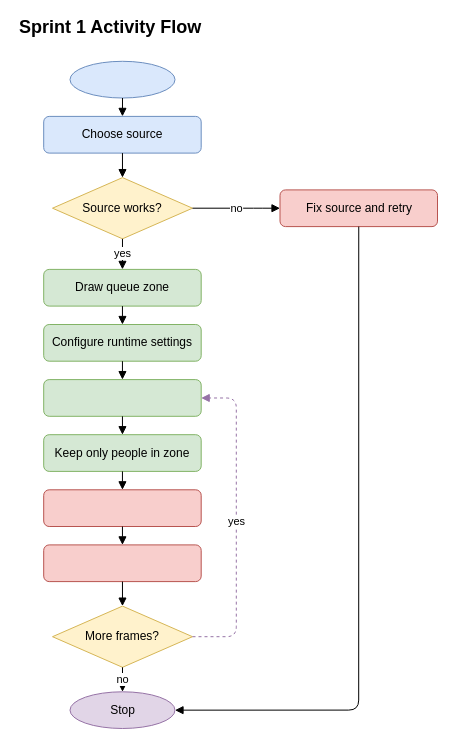
Some shapes in this 455 by 747 pixel diagram are drawn without their labels. The shapes that lost their labels are listed below. From the top down, each one's box as (x1, y1, x2, y2) in pixels, then its label:
(69, 60, 175, 98): Start
(43, 379, 201, 416): Detect and track people
(43, 489, 201, 526): Render queue-zone detections
(43, 544, 201, 582): Display live perception output
